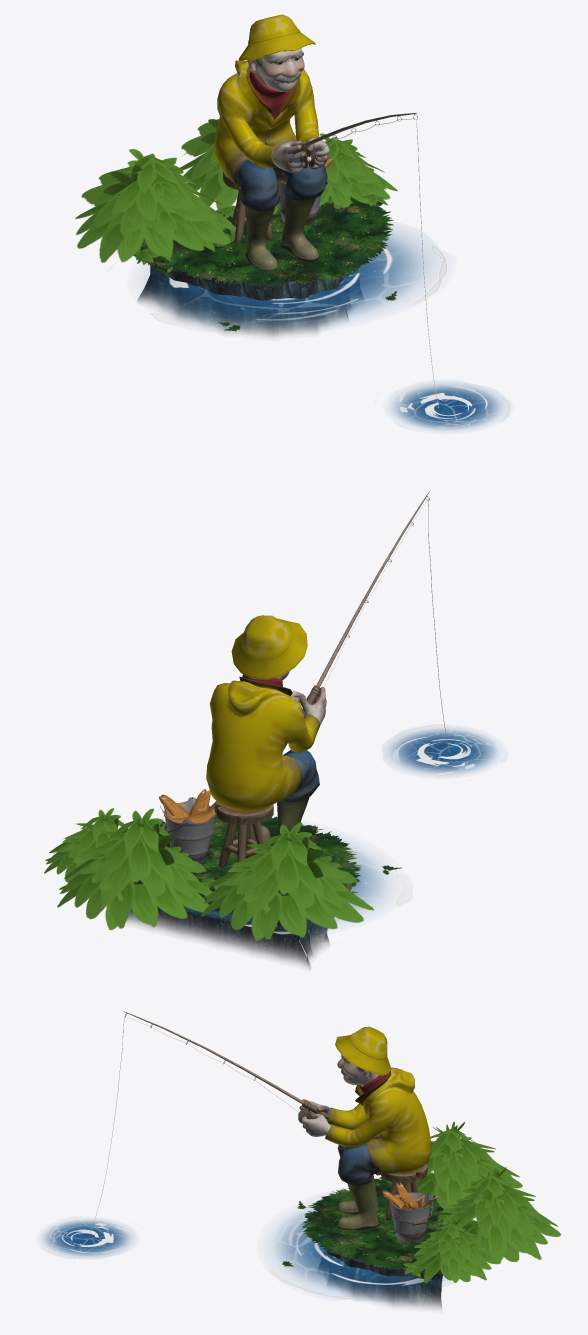
The model's file is old-fisherman-bente-schoone-optimized.glb.
3 views of the same model, one above another, from view 1: azimuth 30°, elevation 25°; view 2: azimuth 150°, elevation 25°; view 3: azimuth 270°, elevation 25° (orthographic). The views are drawn at different scales.
Parts seen in each view (by area): view 1: OldFisherman_Material_1018, OldFisherman_Material_1021, OldFisherman_Material_673, OldFisherman_Material_675, OldFisherman_Material_676; view 2: OldFisherman_Material_1021, OldFisherman_Material_673, OldFisherman_Material_1018, OldFisherman_Material_676, OldFisherman_Material_675; view 3: OldFisherman_Material_1018, OldFisherman_Material_1021, OldFisherman_Material_673, OldFisherman_Material_676, OldFisherman_Material_675.
Part boxes in pixels (left/top/right/bottom): OldFisherman_Material_1018: left=107, top=195, right=510, bottom=431; OldFisherman_Material_1021: left=75, top=119, right=397, bottom=276; OldFisherman_Material_673: left=213, top=14, right=327, bottom=270; OldFisherman_Material_675: left=248, top=48, right=329, bottom=173; OldFisherman_Material_676: left=222, top=113, right=438, bottom=407; OldFisherman_Material_1021: left=44, top=808, right=373, bottom=940; OldFisherman_Material_673: left=206, top=615, right=319, bottom=850; OldFisherman_Material_1018: left=125, top=724, right=508, bottom=968; OldFisherman_Material_676: left=159, top=491, right=450, bottom=867; OldFisherman_Material_675: left=276, top=671, right=326, bottom=725; OldFisherman_Material_1018: left=41, top=1172, right=451, bottom=1309; OldFisherman_Material_1021: left=403, top=1121, right=561, bottom=1283; OldFisherman_Material_673: left=325, top=1026, right=431, bottom=1229; OldFisherman_Material_676: left=89, top=1011, right=439, bottom=1243; OldFisherman_Material_675: left=299, top=1054, right=378, bottom=1136.
Size of the model in its own units: 0.184 by 0.1422 by 0.2735.
6 materials, 6 textured.
